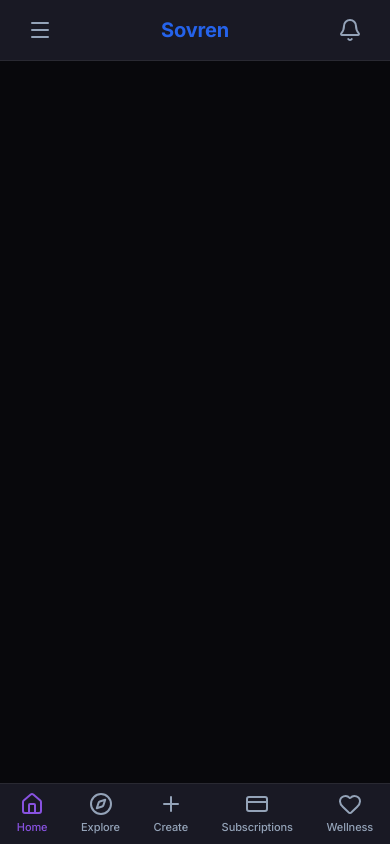
Scenario: 📱 Mobile Navigation Test Suite › 🍔 Mobile Menu System - US-086.3 › should open mobile menu when menu button clicked
Click the button named "Open menu".
click(40, 30)  # box [16,12,64,48]
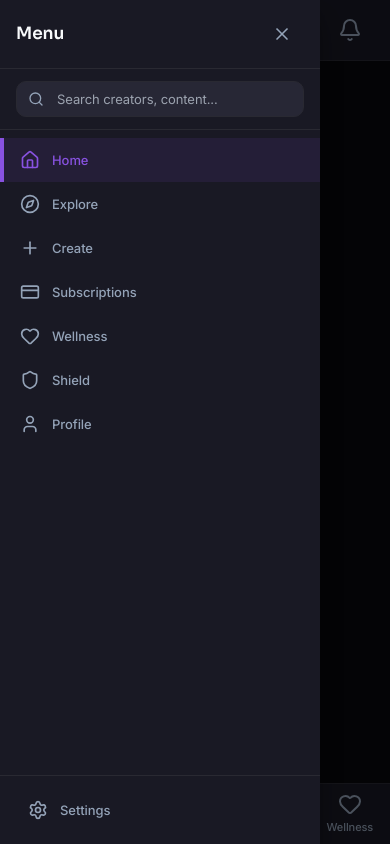
Expected: the heading "Menu" is shown, [16,21,64,47]
Expected: the button named "Close menu" is shown, [260,16,304,52]
